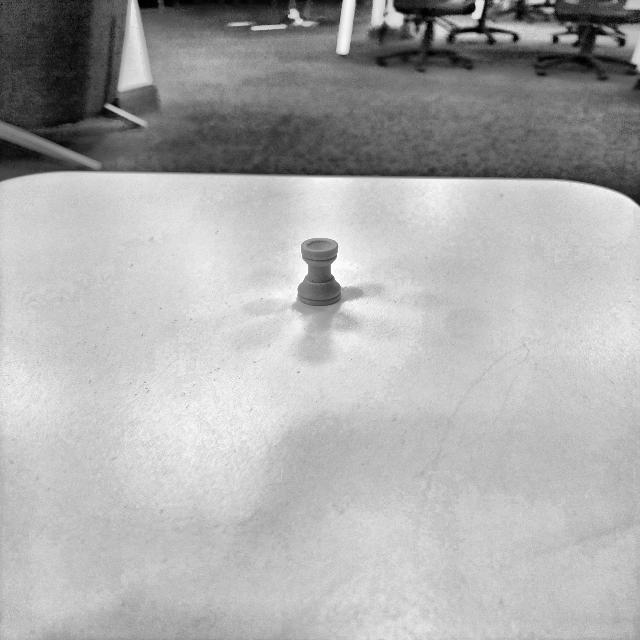white-rook: (297, 237, 342, 307)
